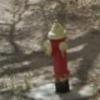a fire hydrant: (41, 18, 74, 86)
